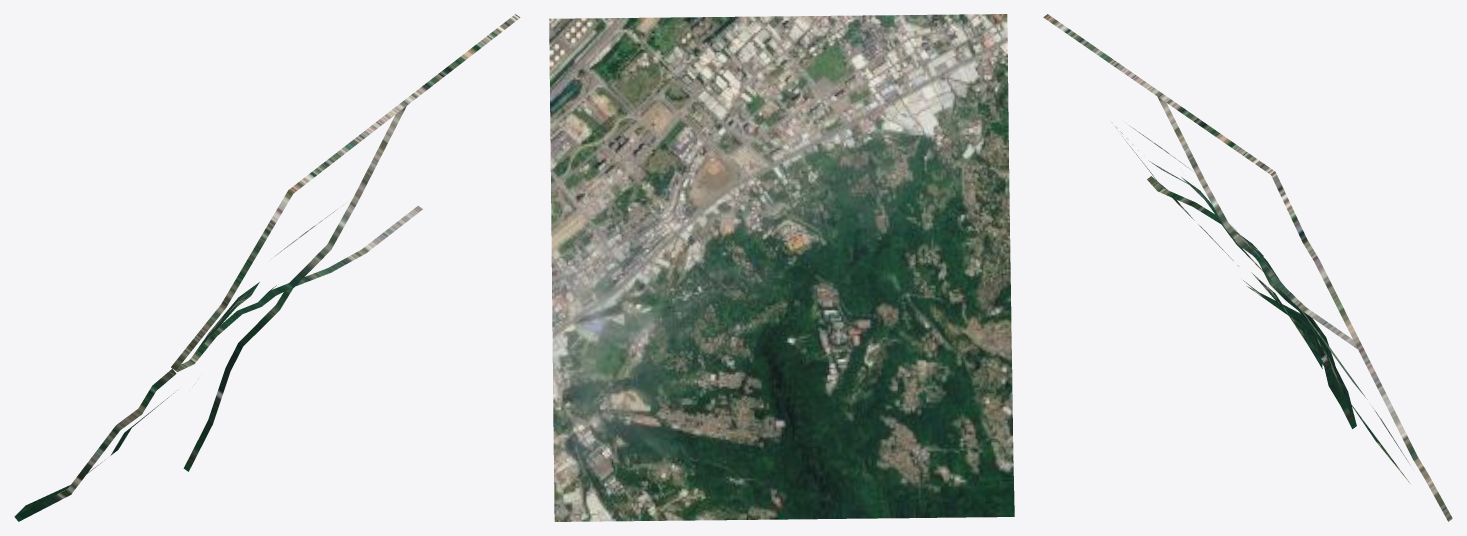
3 renders of one model, left to right at view 1: azimuth 30°, elevation 25°; view 2: azimuth 150°, elevation 25°; view 3: azimuth 270°, elevation 25°, orthographic. The views are drawn at different scales.
Size of the model in its own units: 2665 by 2213 by 2077.
Materials: 1 (1 with a texture image).
